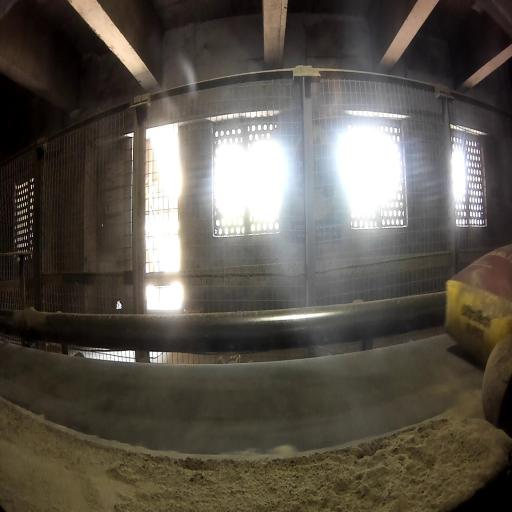c-belt-sack-count: (445, 245, 512, 366)
